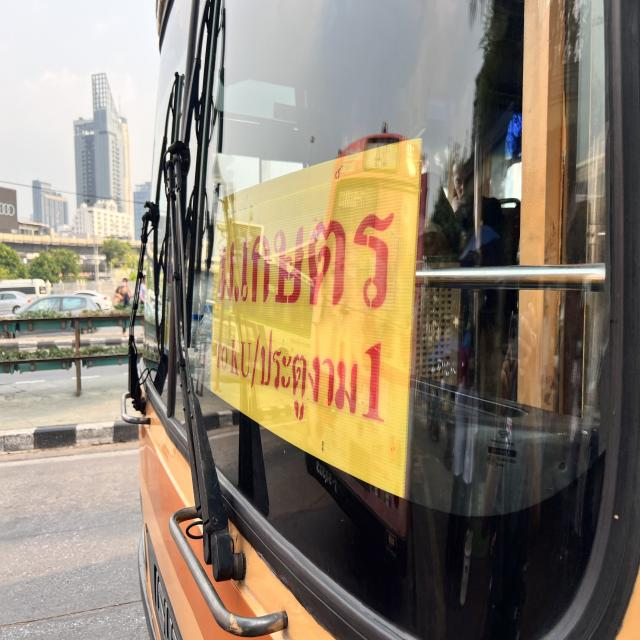BMTA-bus: (114, 0, 640, 640)
Destination-Sign-Extra-Bus-Expressway: (208, 139, 422, 494)
